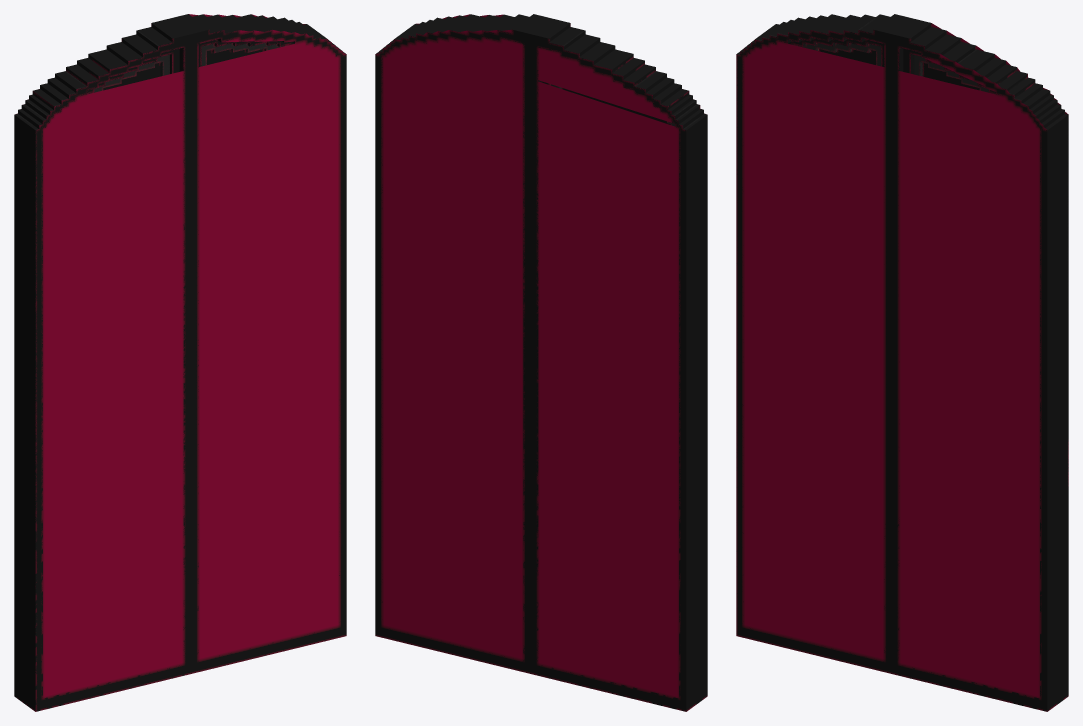
File: BlackDoor.fbx
The picture shows the model from 3 angles, left to right: view 1: azimuth 30°, elevation 25°; view 2: azimuth 150°, elevation 25°; view 3: azimuth 330°, elevation 25°; orthographic projection.
Visible parts, largest first — view 1: BlackDoor_1, BlackDoor_1_Backup, BlackDoor_2_Backup; view 2: BlackDoor_1, BlackDoor_1_Backup, BlackDoor_2_Backup; view 3: BlackDoor_1, BlackDoor_1_Backup, BlackDoor_2_Backup.
Boxes of the visible parts, x1,y1,x2,y2 form: BlackDoor_1: [14, 14, 346, 711]; BlackDoor_1_Backup: [14, 14, 346, 711]; BlackDoor_2_Backup: [14, 14, 346, 687]; BlackDoor_1: [375, 14, 707, 711]; BlackDoor_1_Backup: [375, 15, 707, 711]; BlackDoor_2_Backup: [375, 14, 707, 687]; BlackDoor_1: [736, 14, 1068, 711]; BlackDoor_1_Backup: [736, 15, 1068, 711]; BlackDoor_2_Backup: [736, 14, 1068, 687].
Size of the model in its own units: 840 by 1650 by 100.
2 materials, 1 textured.
